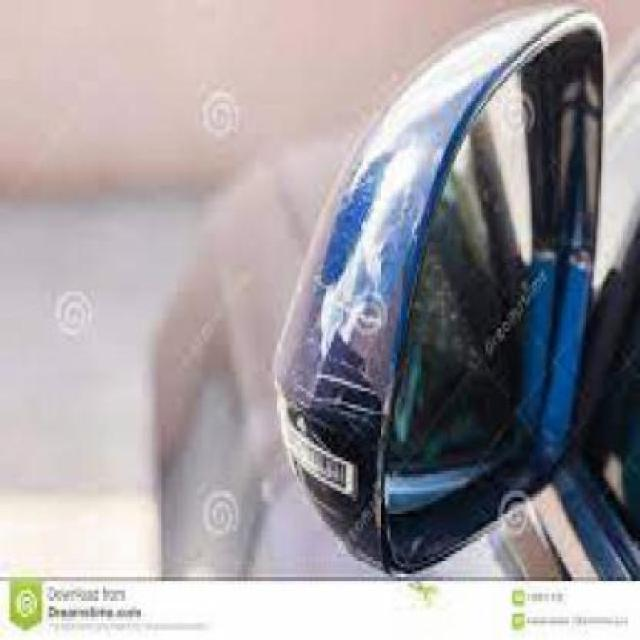Sidemirror-Damage: (283, 0, 629, 541)
